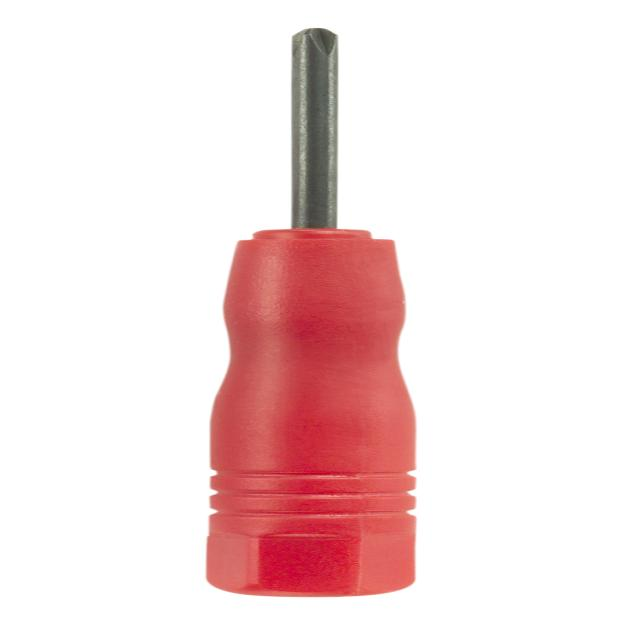screw_driver: (207, 28, 418, 597)
